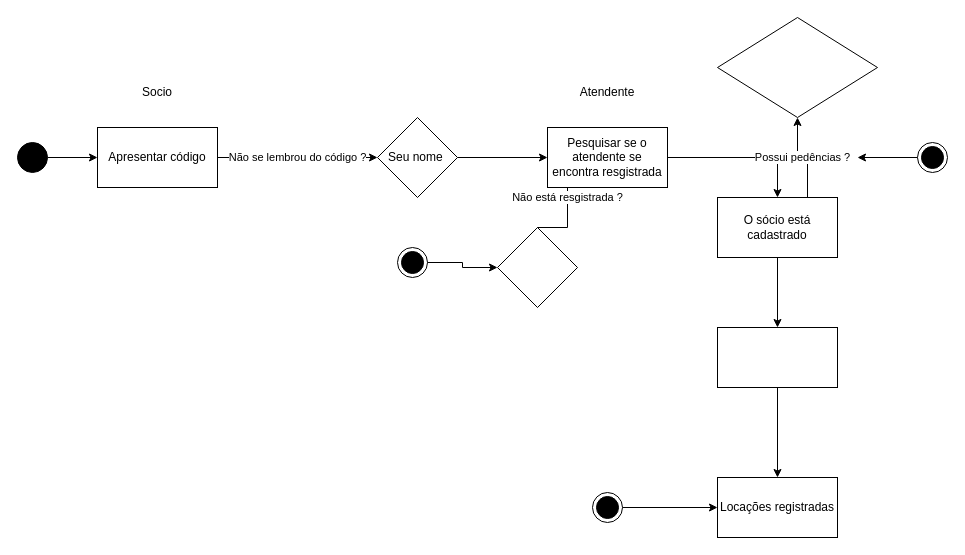
The diagram is 965 pixels wide and 555 high, and some of its shapes have lost their labels. Here are the shapes that lost their labels. From the top down, the centre of each, then its label:
(x=797, y=67): Locação recusada por motivos de pedências
(x=537, y=267): Recusado
(x=777, y=357): Não possui pedências
